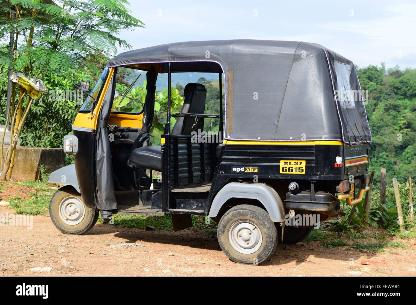auto-rikshaw: (44, 33, 374, 269)
